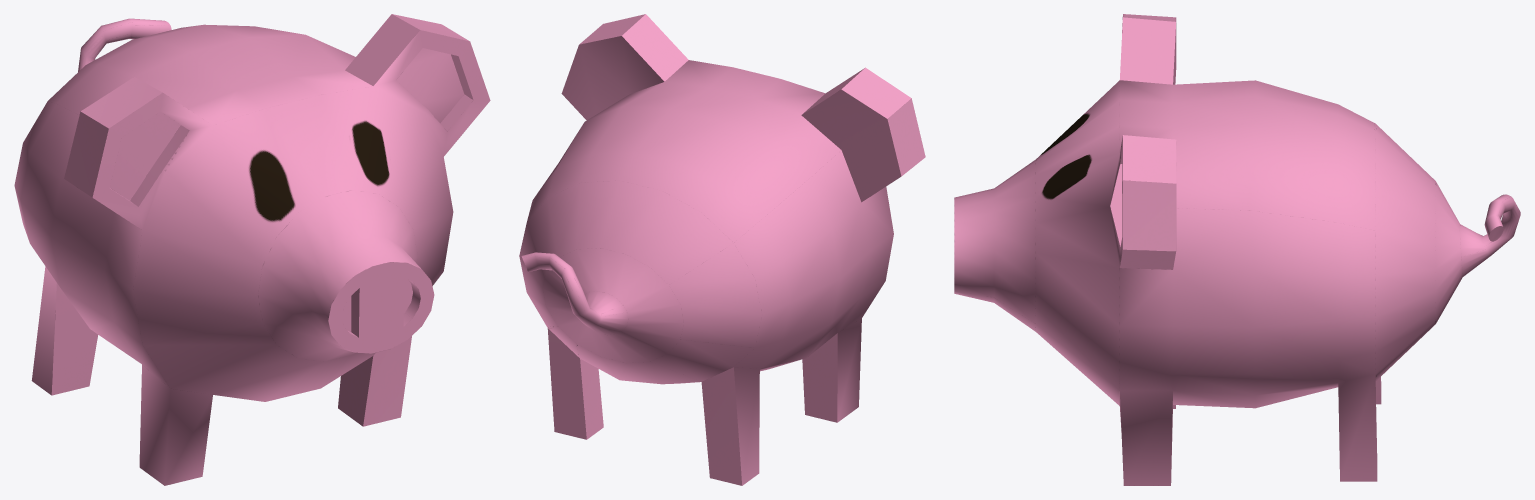
Rendered from Pig.FBX.
The picture shows the model from 3 angles, left to right: view 1: azimuth 30°, elevation 25°; view 2: azimuth 150°, elevation 25°; view 3: azimuth 270°, elevation 25°; orthographic projection. The views are drawn at different scales.
Visible parts, largest first — view 1: Cylinder002; view 2: Cylinder002; view 3: Cylinder002.
Part boxes in pixels (x1,y1,x2,y2): Cylinder002: [14, 14, 490, 485]; Cylinder002: [519, 14, 925, 485]; Cylinder002: [954, 14, 1520, 485].
Size of the model in its own units: 15 by 14.28 by 19.7.
